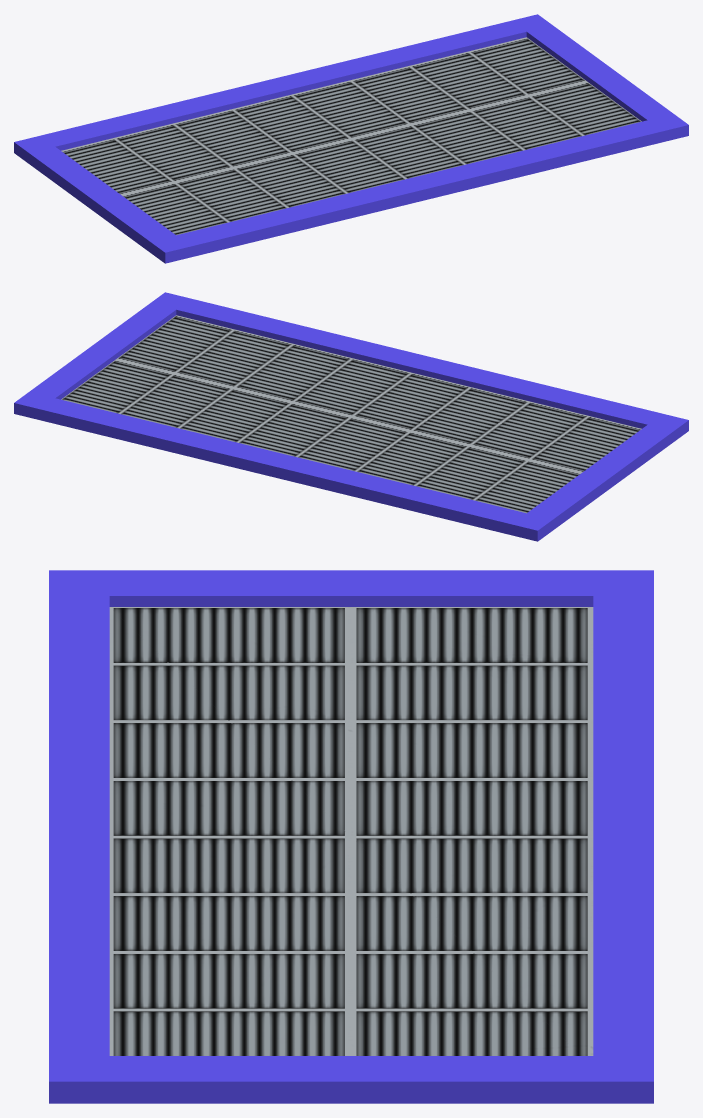
File: MetalGrate_Wall_01.FBX
3 views of the same model, one above another, from view 1: azimuth 30°, elevation 25°; view 2: azimuth 150°, elevation 25°; view 3: azimuth 270°, elevation 25° (orthographic). The views are drawn at different scales.
Parts seen in each view (by area): view 1: MetalGrate_Wall_01; view 2: MetalGrate_Wall_01; view 3: MetalGrate_Wall_01.
Part boxes in pixels (x1,y1,x2,y2): MetalGrate_Wall_01: [14, 14, 688, 263]; MetalGrate_Wall_01: [14, 292, 688, 541]; MetalGrate_Wall_01: [49, 570, 653, 1103].
Size of the model in its own units: 2 by 0.04 by 1.
Materials: 2 (1 with a texture image).
